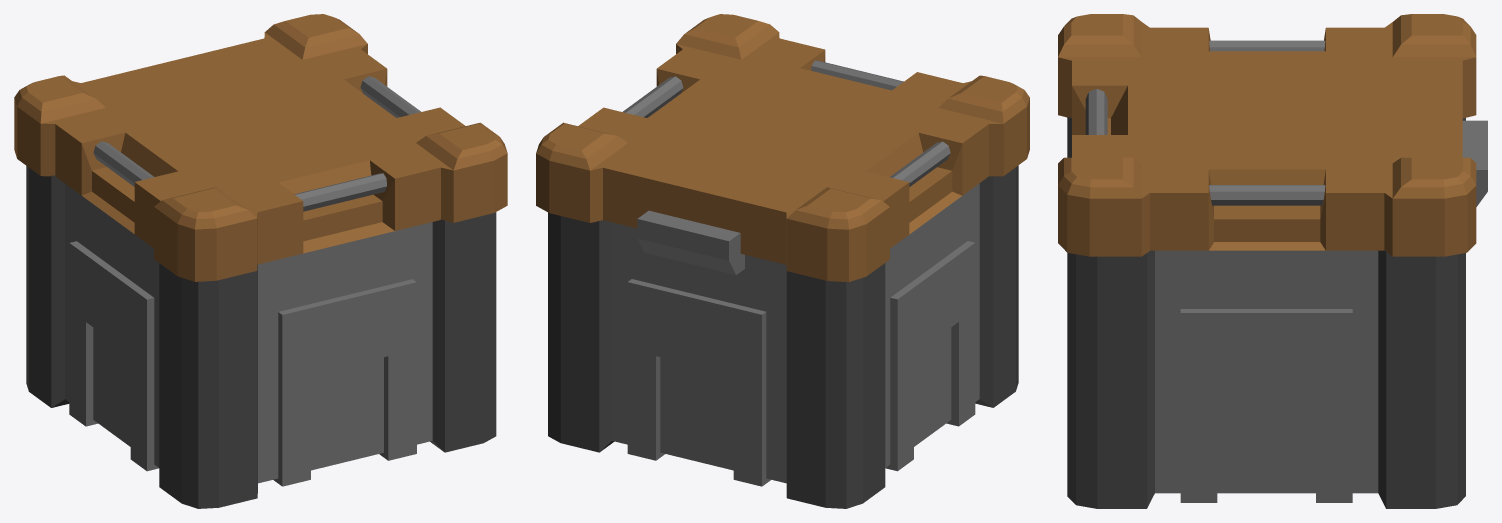
The model's file is quaternius-cyberpunk-lootbox.glb.
The picture shows the model from 3 angles, left to right: view 1: azimuth 30°, elevation 25°; view 2: azimuth 150°, elevation 25°; view 3: azimuth 270°, elevation 25°; orthographic projection. The views are drawn at different scales.
Visible parts, largest first — view 1: Lootbox_Base, Lootbox_Top; view 2: Lootbox_Base, Lootbox_Top; view 3: Lootbox_Base, Lootbox_Top.
Part boxes in pixels (x1,y1,x2,y2): Lootbox_Base: (26,76,496,508); Lootbox_Top: (14,14,507,281); Lootbox_Base: (548,60,1018,508); Lootbox_Top: (536,14,1029,282); Lootbox_Base: (1067,40,1487,508); Lootbox_Top: (1058,14,1476,256).
Size of the model in its own units: 0.5919 by 0.5121 by 0.6081.
